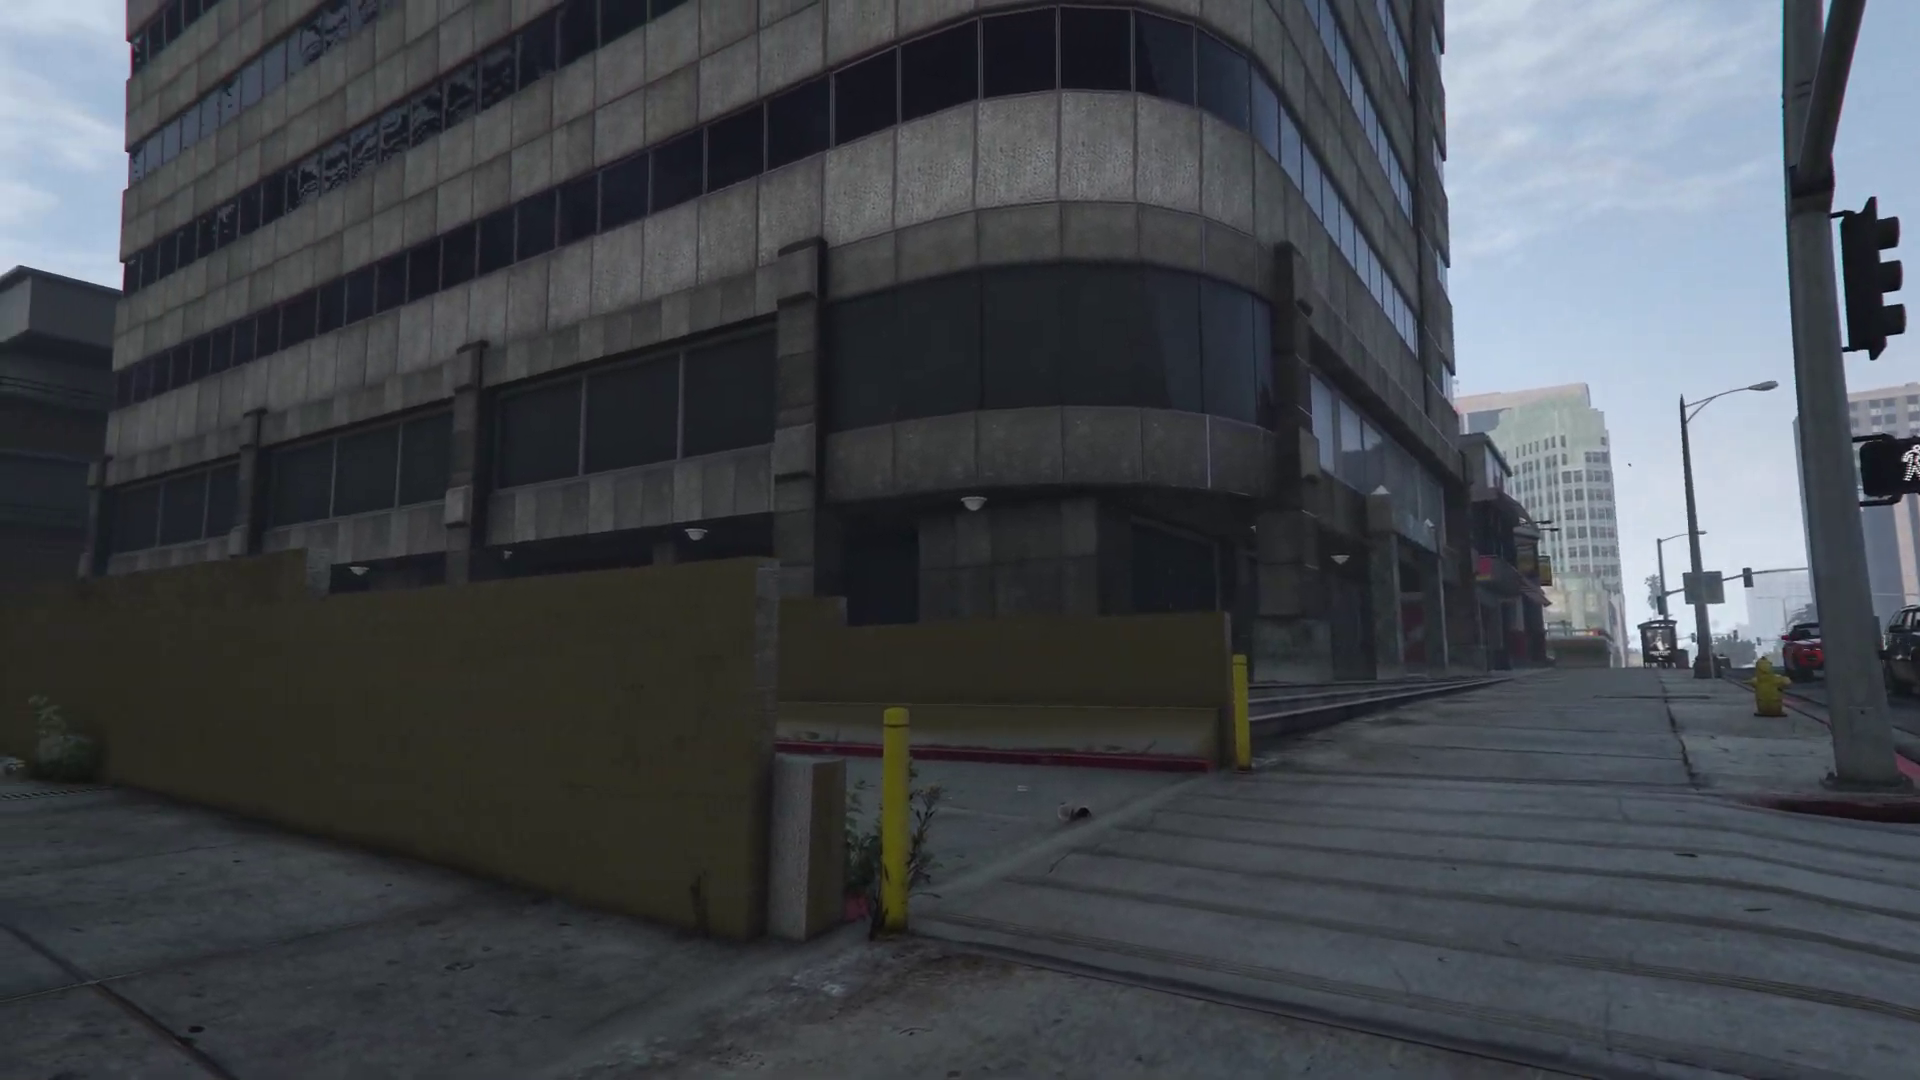car: (1883, 607, 1920, 694), (1785, 622, 1826, 683)
traffic light: (1842, 195, 1899, 360), (1857, 434, 1920, 500), (1743, 567, 1753, 588), (1658, 596, 1665, 617)
